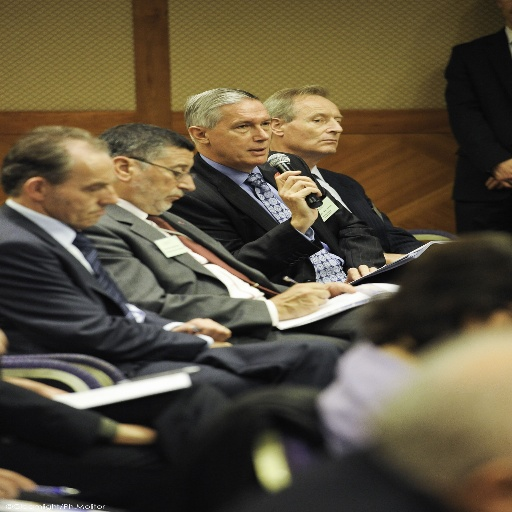hand: (263, 278, 327, 319), (277, 168, 332, 213), (168, 317, 230, 341), (0, 464, 35, 501), (119, 422, 156, 443), (340, 263, 378, 281), (323, 279, 357, 295), (494, 157, 511, 187), (485, 176, 503, 190)
